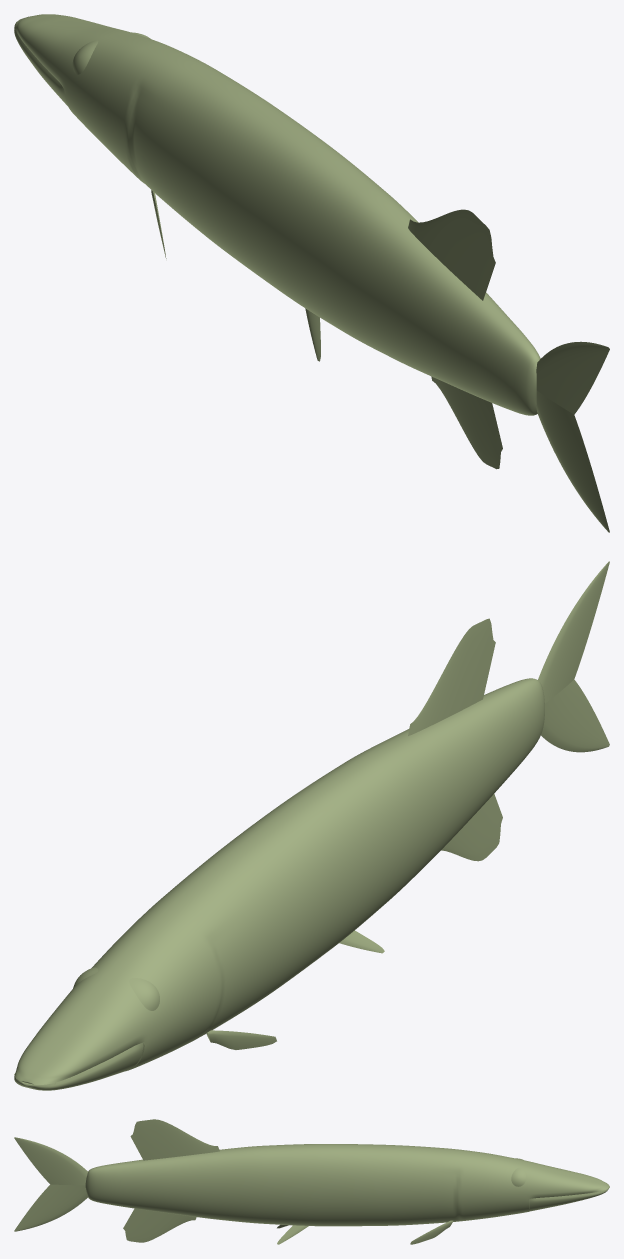
File: northern_pike.glb
3 renders of one model, top to bottom at view 1: azimuth 30°, elevation 25°; view 2: azimuth 150°, elevation 25°; view 3: azimuth 270°, elevation 25°, orthographic. The views are drawn at different scales.
Visible parts, largest first — view 1: northern_pike; view 2: northern_pike; view 3: northern_pike.
Part boxes in pixels (x1,y1,x2,y2): northern_pike: (14, 14, 609, 532); northern_pike: (14, 561, 609, 1090); northern_pike: (14, 1119, 609, 1244).
Size of the model in its own units: 0.1092 by 0.2281 by 0.999.
